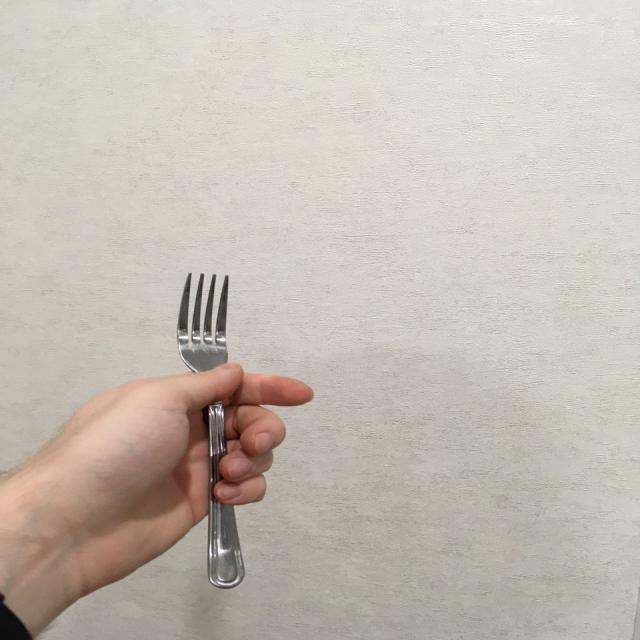fork: (173, 272, 246, 590)
